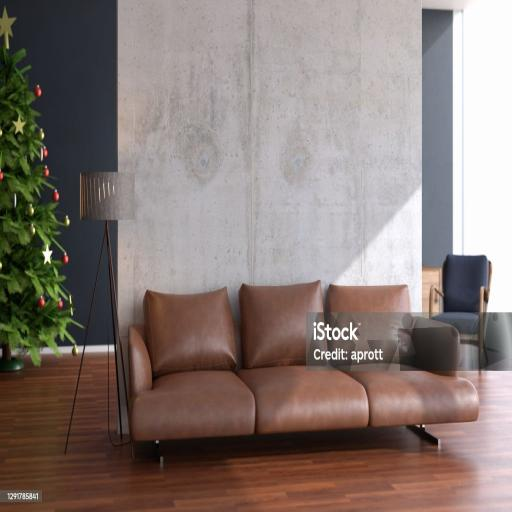back_cushion: (240, 281, 410, 368), (144, 289, 236, 375)
left_arm: (411, 318, 460, 374)
legs: (406, 425, 440, 448), (154, 441, 163, 467)
right_arm: (129, 325, 152, 397)
seat_cushion: (130, 366, 478, 441)
stallion-sofa: (128, 281, 478, 465)
